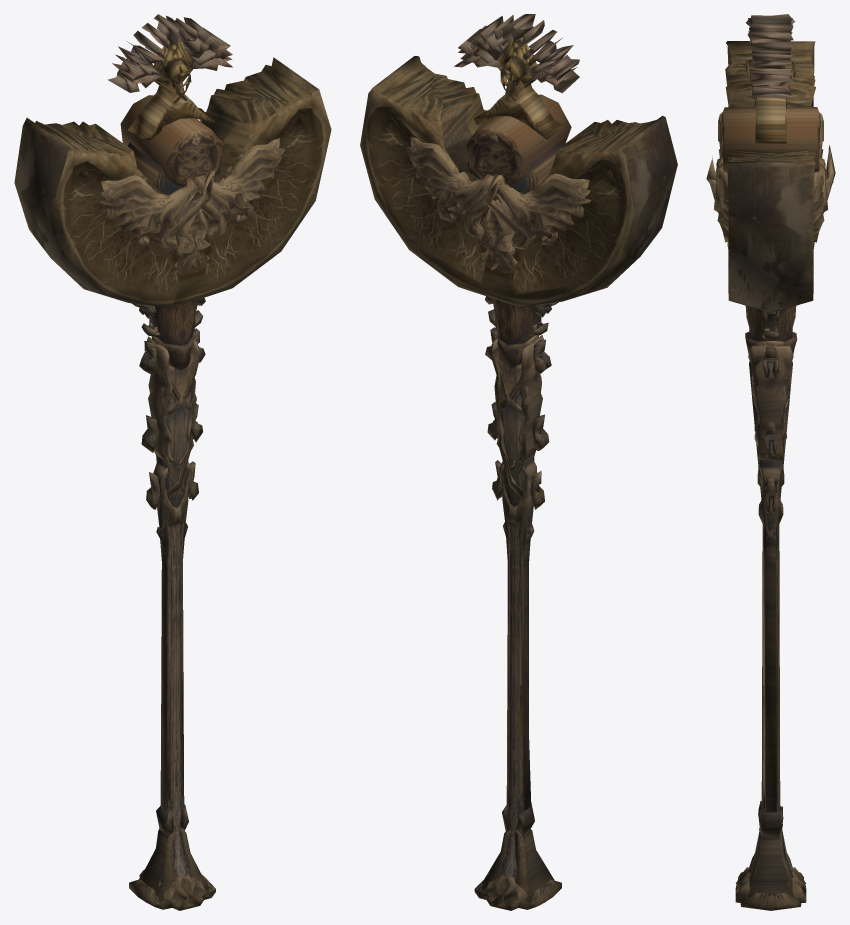
Rendered from so_pd_staffoftheavatar.glb.
3 views of the same model, side by side, from view 1: azimuth 30°, elevation 25°; view 2: azimuth 150°, elevation 25°; view 3: azimuth 270°, elevation 25° (orthographic).
Visible parts, largest first — view 1: StaffOfTheAvatar; view 2: StaffOfTheAvatar; view 3: StaffOfTheAvatar.
Part boxes in pixels (x1,y1,x2,y2): StaffOfTheAvatar: (14, 14, 331, 910); StaffOfTheAvatar: (360, 14, 677, 910); StaffOfTheAvatar: (706, 14, 835, 910).
Size of the model in its own units: 38.17 by 116 by 15.33.
1 material, 1 textured.
